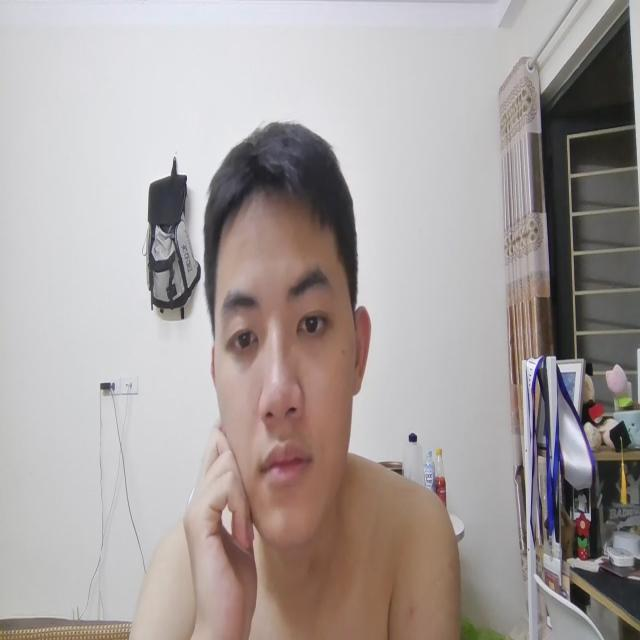student: (186, 106, 387, 640)
